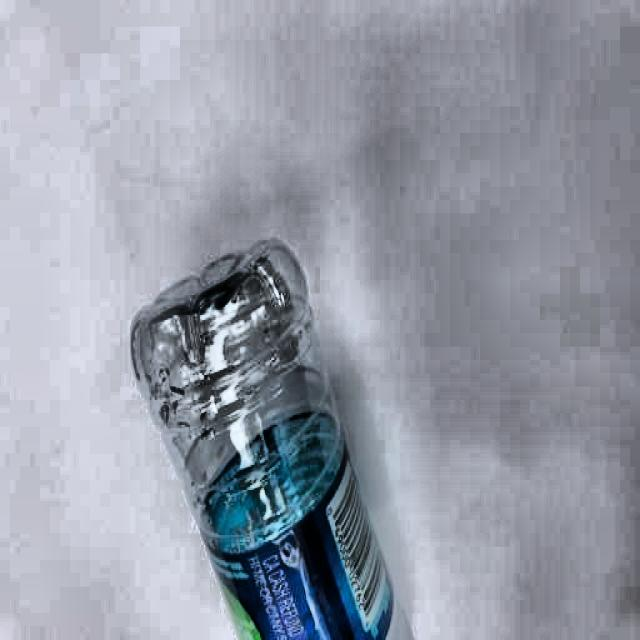plastic: (126, 238, 415, 640)
